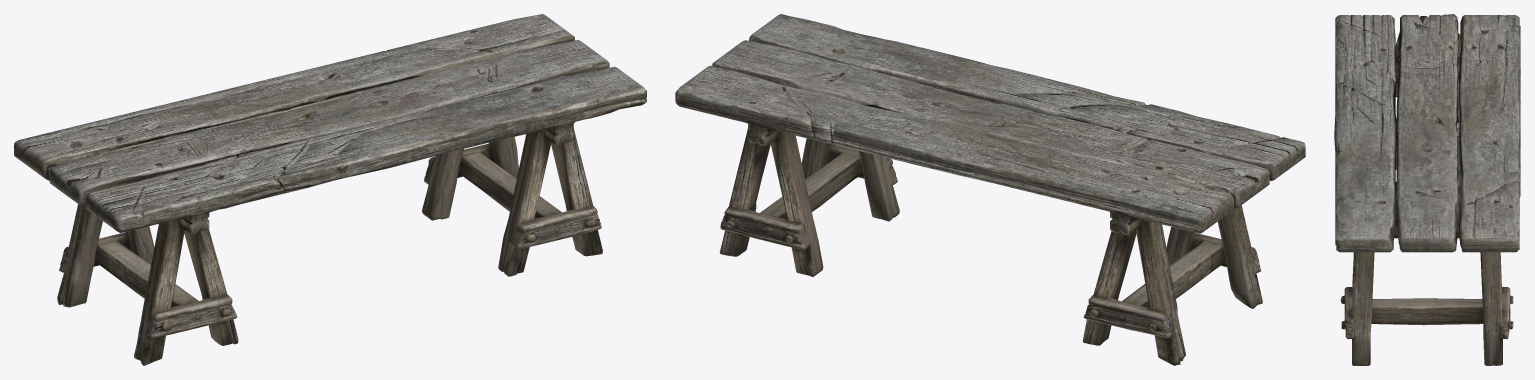
The model's file is kit_table_hero.glb.
3 renders of one model, left to right at view 1: azimuth 30°, elevation 25°; view 2: azimuth 150°, elevation 25°; view 3: azimuth 270°, elevation 25°, orthographic. The views are drawn at different scales.
Visible parts, largest first — view 1: kit_table_hero; view 2: kit_table_hero; view 3: kit_table_hero.
Part boxes in pixels (<box>): kit_table_hero: <box>14,14,646,365</box>; kit_table_hero: <box>675,14,1305,365</box>; kit_table_hero: <box>1334,14,1520,365</box>.
Bounding box in the file's own units: 3 × 0.9041 × 1.05.
Materials: 1 (1 with a texture image).
